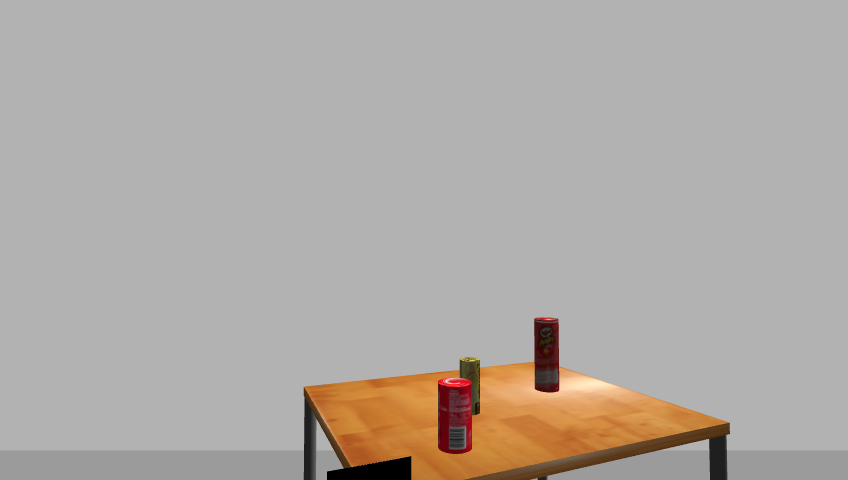aruco marker: (322, 456, 417, 480)
biscuits pack: (459, 356, 482, 416)
coke can: (435, 378, 474, 454)
dinner table: (291, 363, 738, 480)
pringles can: (532, 316, 562, 394)
